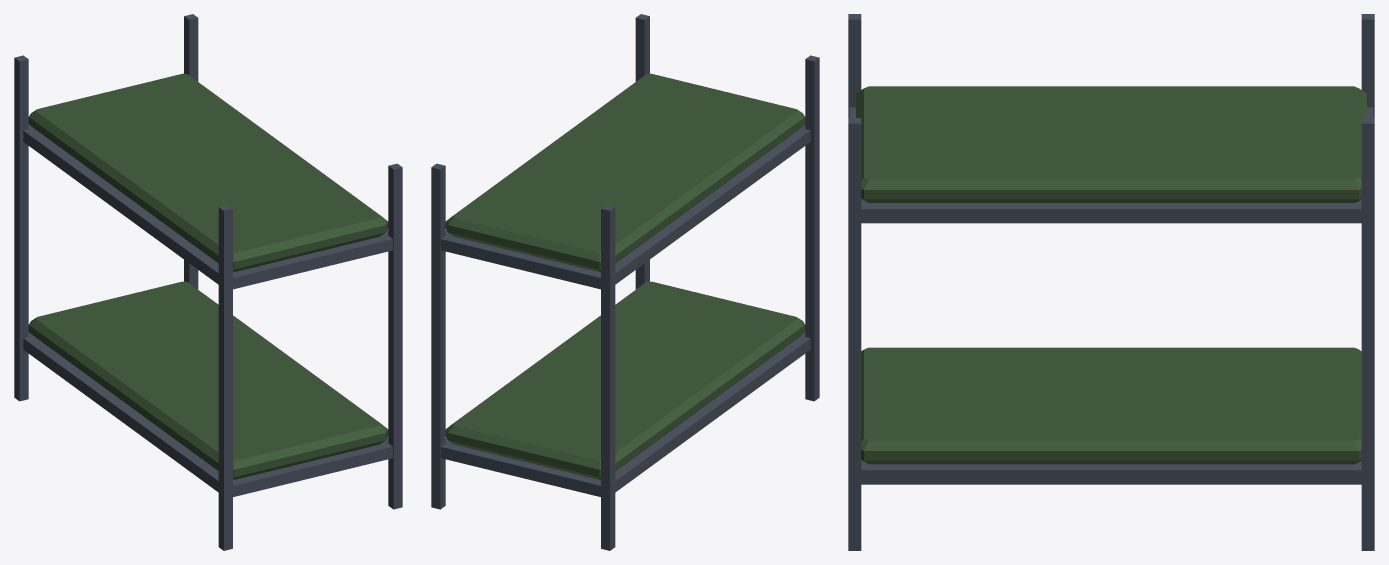
File: bunk_bed.glb
3 renders of one model, left to right at view 1: azimuth 30°, elevation 25°; view 2: azimuth 150°, elevation 25°; view 3: azimuth 270°, elevation 25°, orthographic. The views are drawn at different scales.
Parts seen in each view (by area): view 1: bunk_bed; view 2: bunk_bed; view 3: bunk_bed.
Boxes of the visible parts, x1=… form: bunk_bed: x1=14, y1=14, x2=402, y2=550; bunk_bed: x1=431, y1=14, x2=819, y2=550; bunk_bed: x1=848, y1=14, x2=1374, y2=550.
Size of the model in its own units: 0.99 by 1.8 by 2.01.
